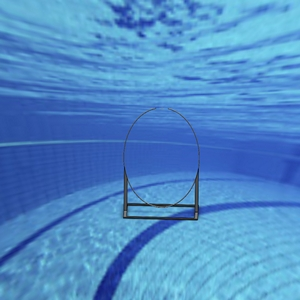circle: (120, 104, 201, 222)
